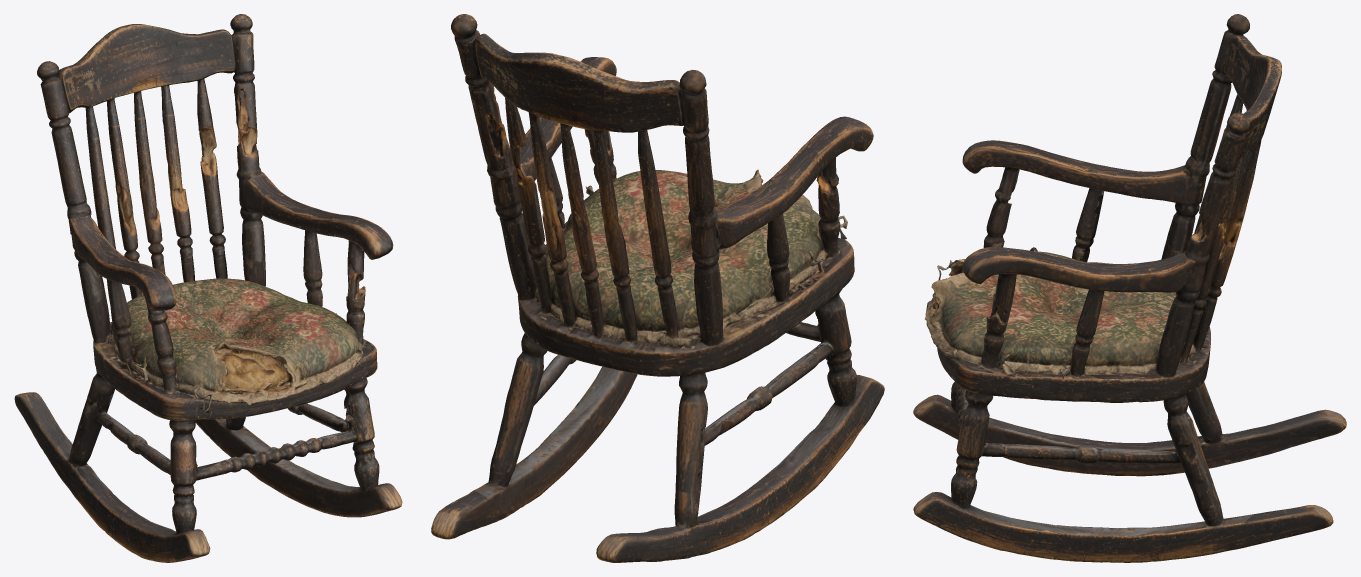
The model's file is RockingChair.fbx.
3 views of the same model, side by side, from view 1: azimuth 30°, elevation 25°; view 2: azimuth 150°, elevation 25°; view 3: azimuth 270°, elevation 25° (orthographic). The views are drawn at different scales.
Visible parts, largest first — view 1: texture_mapping; view 2: texture_mapping; view 3: texture_mapping.
Boxes of the visible parts, <box> form: texture_mapping: <box>14,14,402,562</box>; texture_mapping: <box>431,14,884,562</box>; texture_mapping: <box>913,14,1346,562</box>.
Bounding box in the file's own units: 0.5862 × 0.8671 × 0.9992.
1 material, 1 textured.
